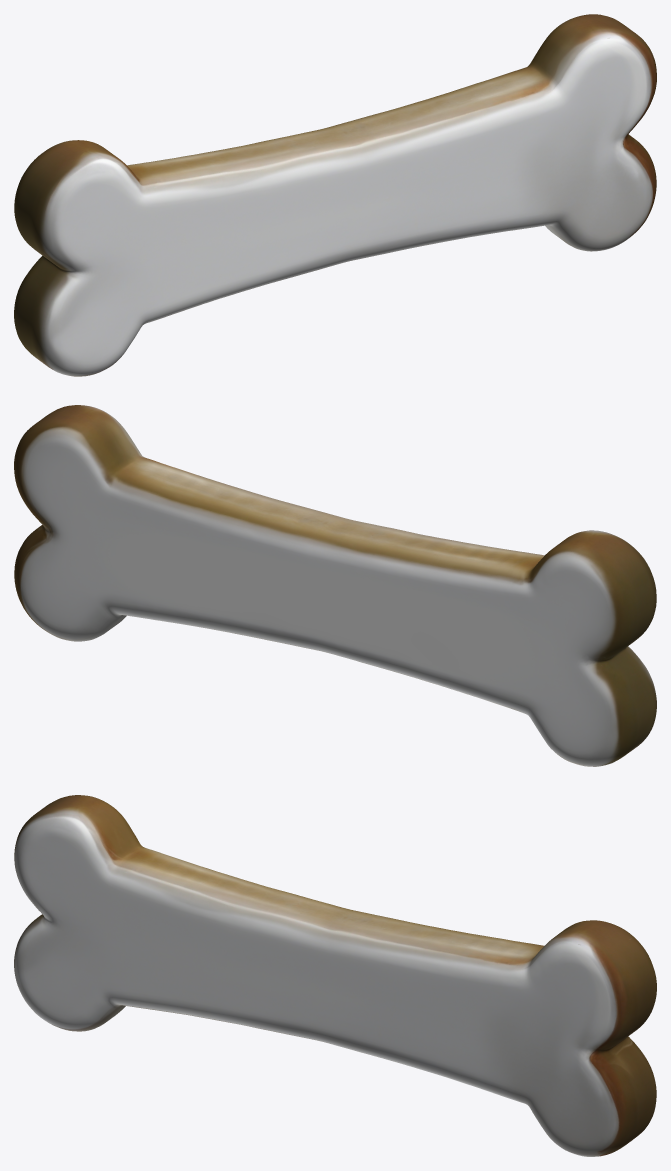
The model's file is Dog_Bone_Banner_0913040342.fbx.
The picture shows the model from 3 angles, top to bottom: view 1: azimuth 30°, elevation 25°; view 2: azimuth 150°, elevation 25°; view 3: azimuth 330°, elevation 25°; orthographic projection.
Parts seen in each view (by area): view 1: Mesh_0; view 2: Mesh_0; view 3: Mesh_0.
Part boxes in pixels (<box>): Mesh_0: <box>14,14,656,376</box>; Mesh_0: <box>14,405,656,766</box>; Mesh_0: <box>14,795,656,1156</box>.
Size of the model in its own units: 200 by 67.64 by 20.06.
1 material, 1 textured.
